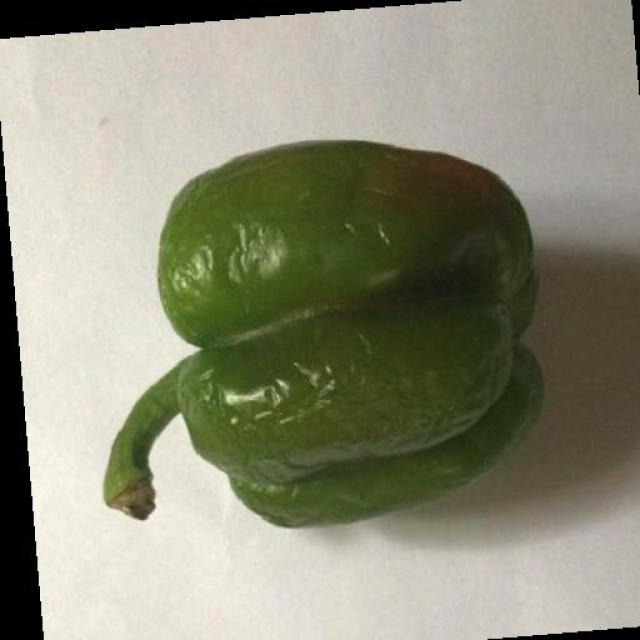Stale_Capsicum: (96, 128, 599, 532)
